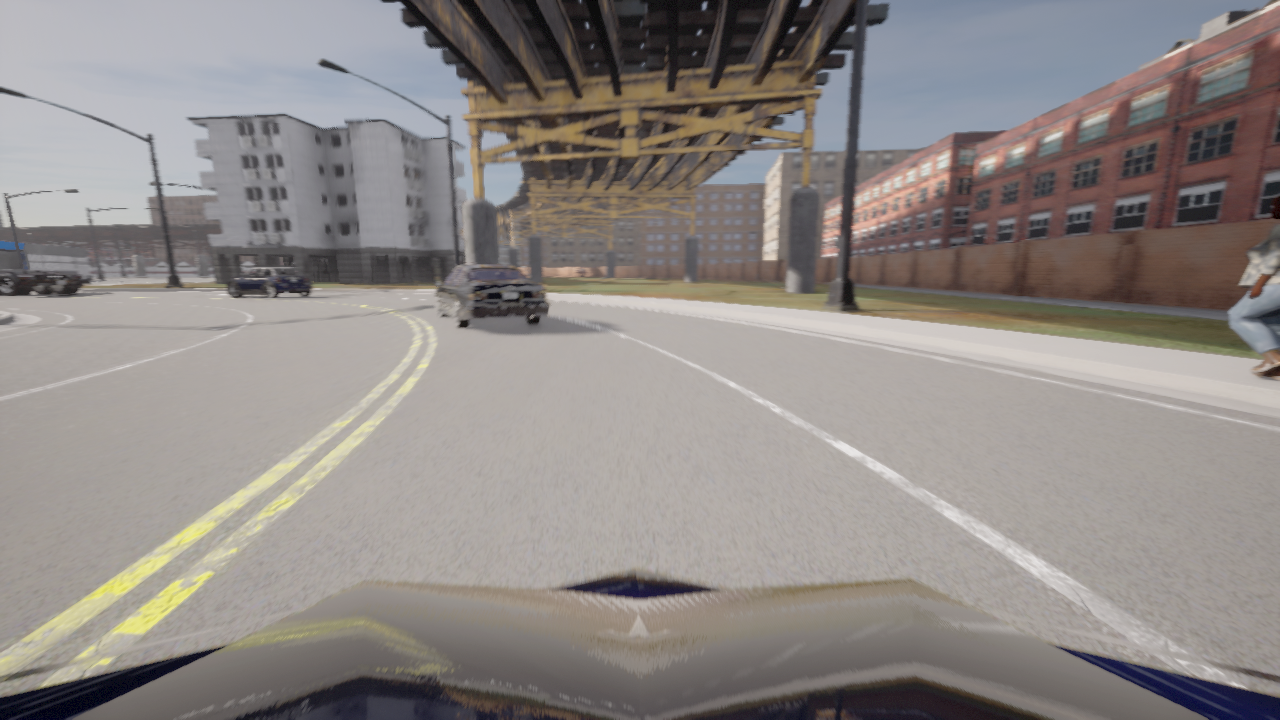cyclist: (0, 569, 1279, 719), (435, 264, 549, 328), (227, 267, 311, 298)
pedestrian: (1228, 195, 1279, 379)
